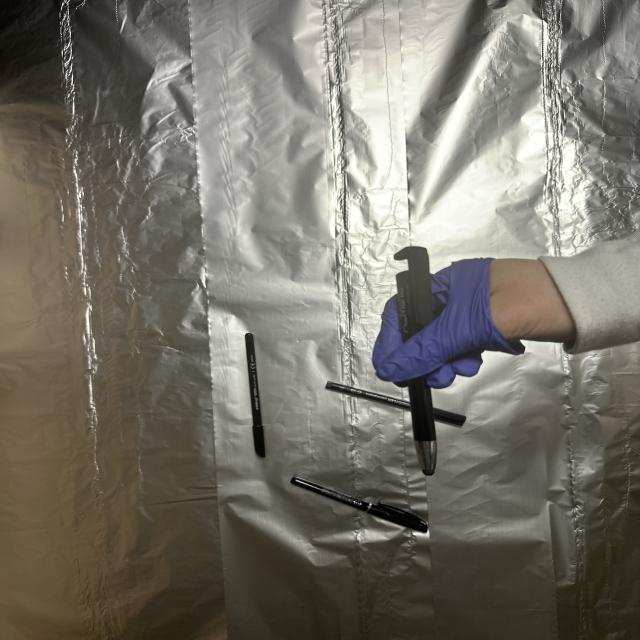glove_partial: (369, 256, 586, 390)
